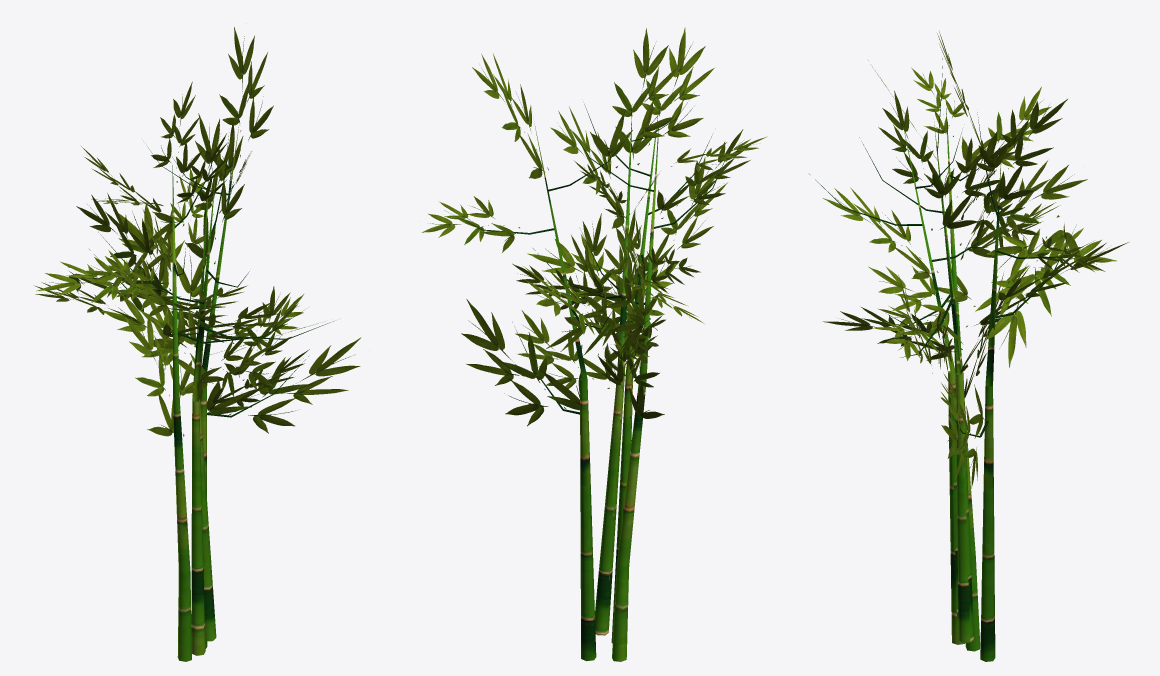
Rendered from Bamboo1.fbx.
3 views of the same model, side by side, from view 1: azimuth 30°, elevation 25°; view 2: azimuth 150°, elevation 25°; view 3: azimuth 270°, elevation 25° (orthographic). The views are drawn at different scales.
Parts seen in each view (by area): view 1: Bamboo1; view 2: Bamboo1; view 3: Bamboo1.
Boxes of the visible parts, x1=… form: Bamboo1: x1=34, y1=27, x2=361, y2=661; Bamboo1: x1=422, y1=27, x2=767, y2=661; Bamboo1: x1=809, y1=31, x2=1128, y2=661.
Bounding box in the file's own units: 153 × 278 × 136.
